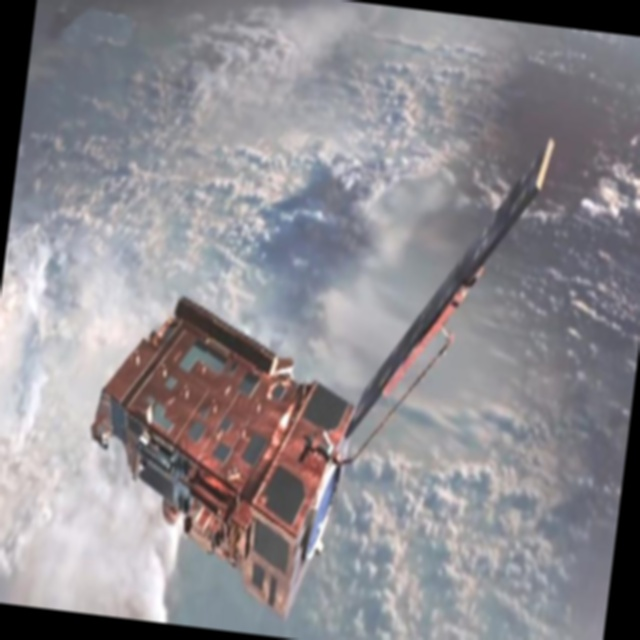satellite: (64, 79, 558, 640)
